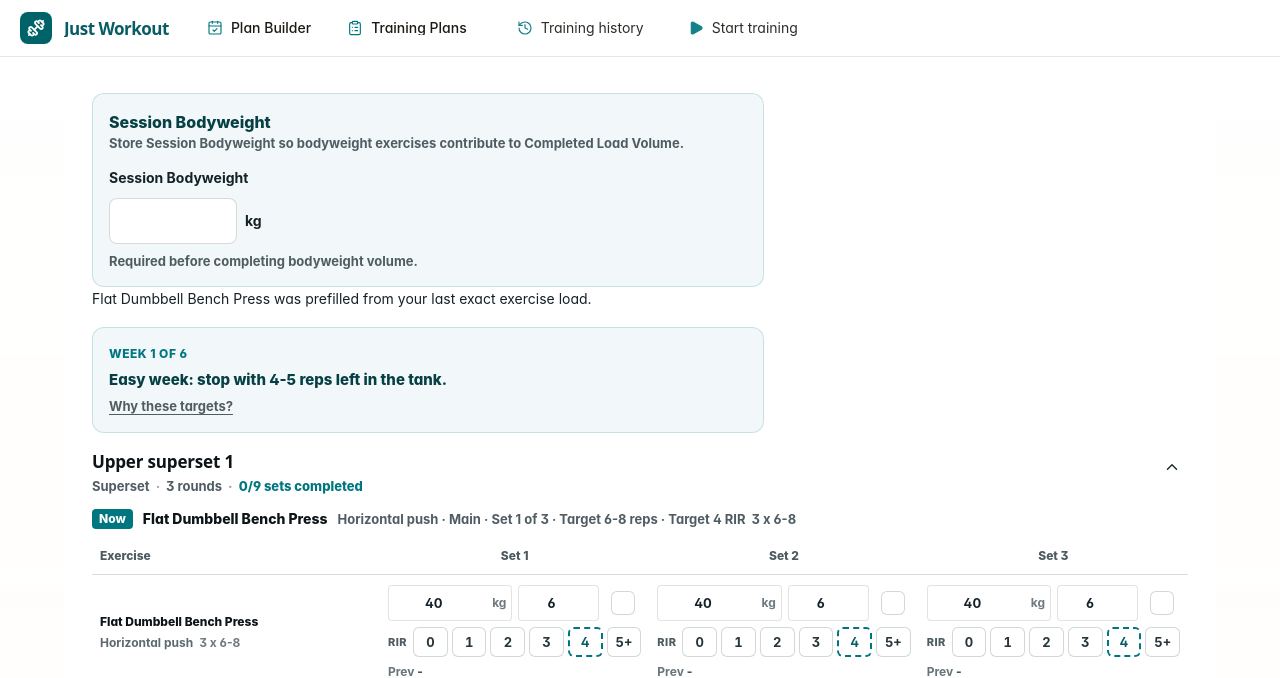
Test case: TrainingPlanRoute › dismisses the exact-history prefill note after the user edits reps
Expected: the text "Flat Dumbbell Bench Press was prefilled from your last exact exercise load." is shown, [92,290,592,307]
Replace the text in the number field named "Flat Dumbbell Bench Press set 1 reps" with "7" at (559, 603), box [518,585,599,621]
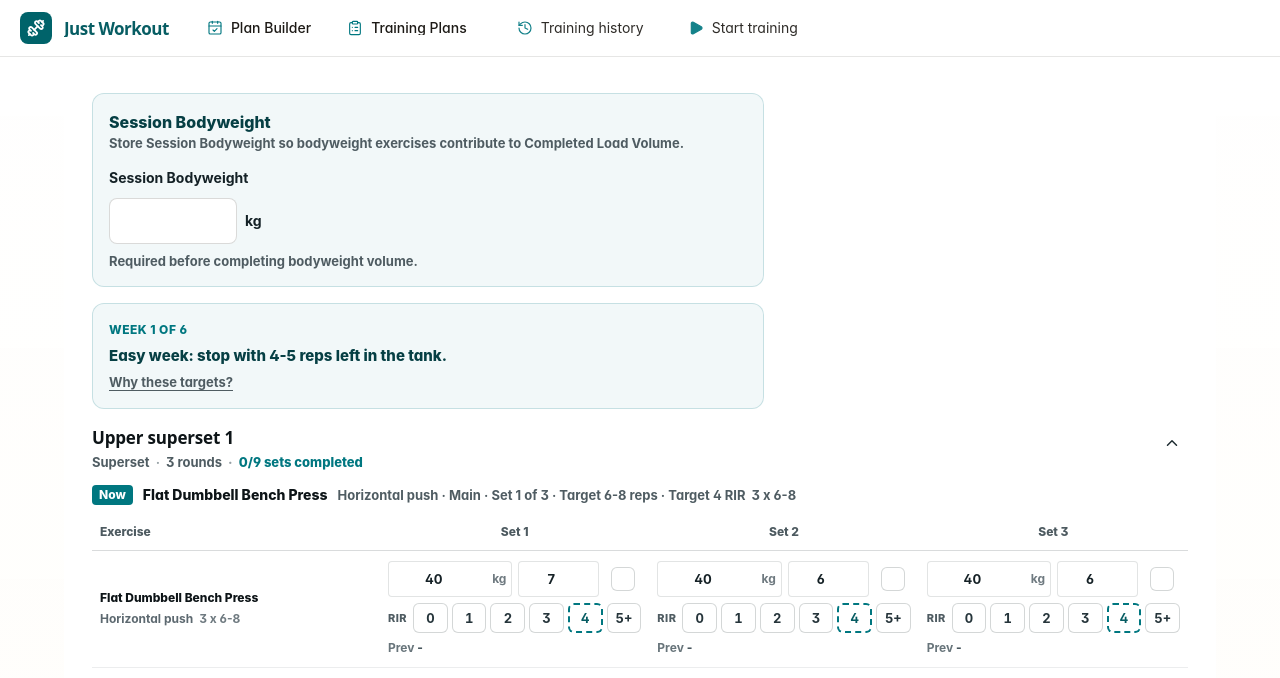
Expected: the text "Flat Dumbbell Bench Press was prefilled from your last exact exercise load." is gone
